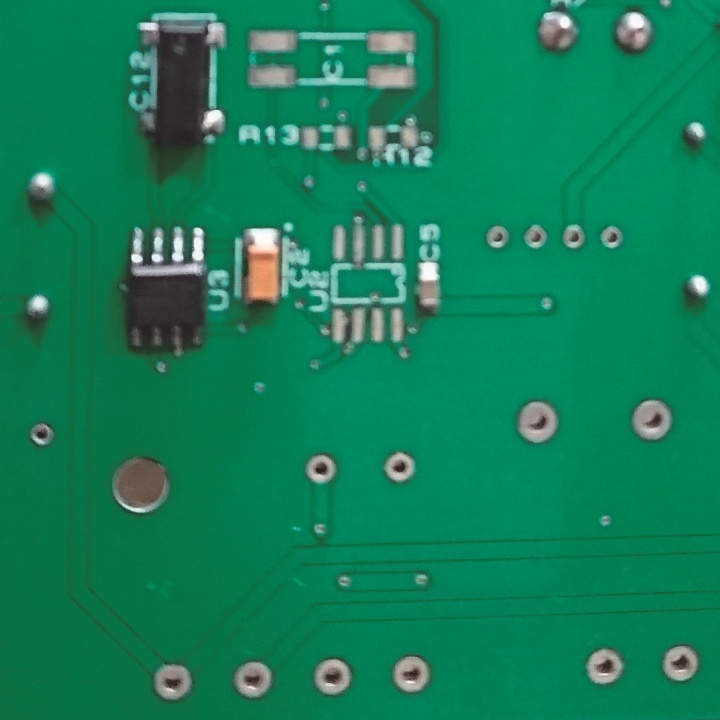F: (513, 398, 560, 449), (630, 395, 673, 444), (230, 657, 275, 701), (150, 660, 195, 703), (658, 643, 701, 686), (309, 658, 355, 698), (584, 646, 624, 687), (393, 653, 430, 695), (384, 446, 419, 489), (303, 452, 341, 485), (27, 418, 56, 449), (484, 221, 510, 252), (522, 223, 549, 252), (560, 223, 587, 252), (598, 223, 624, 253)
